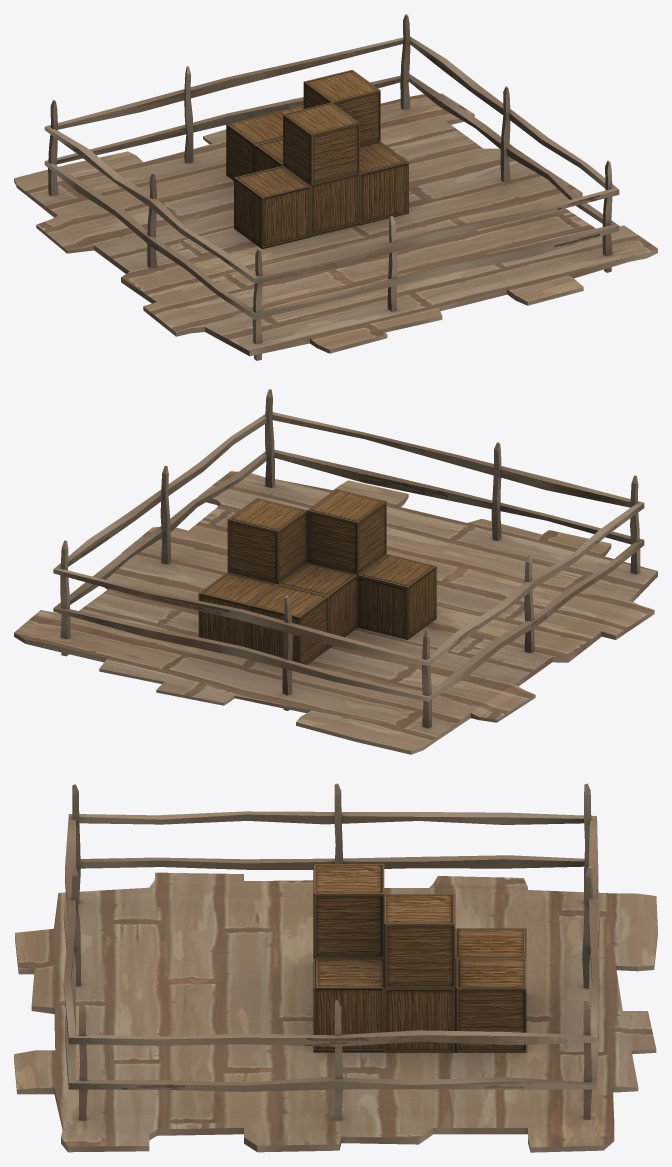
File: enclos.FBX
3 views of the same model, one above another, from view 1: azimuth 30°, elevation 25°; view 2: azimuth 150°, elevation 25°; view 3: azimuth 270°, elevation 25° (orthographic). The views are drawn at different scales.
Parts seen in each view (by area): view 1: enclos; view 2: enclos; view 3: enclos.
Part boxes in pixels (box(x1,y1,x2,y2)): enclos: box(14, 14, 657, 360); enclos: box(14, 389, 657, 754); enclos: box(14, 783, 657, 1152).
Bounding box in the file's own units: 4.58 × 1.16 × 4.53.
